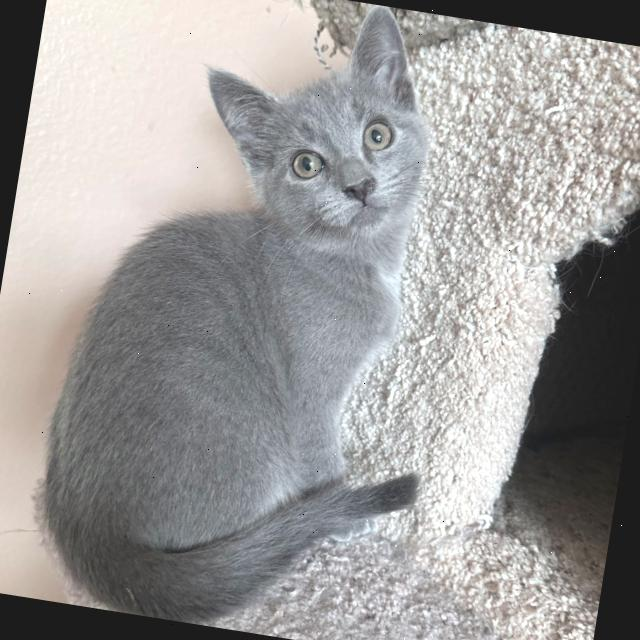russian_blue_cat: (172, 0, 474, 281)
